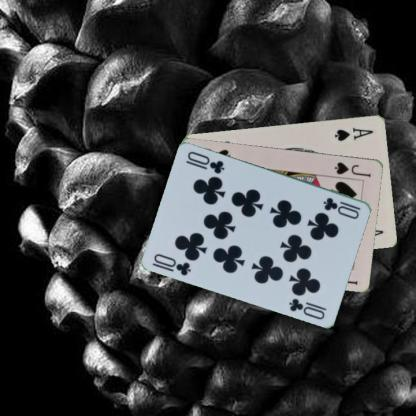10c: (151, 251, 193, 277), (321, 195, 362, 220)
As: (332, 124, 375, 142)
Js: (332, 159, 372, 178)
